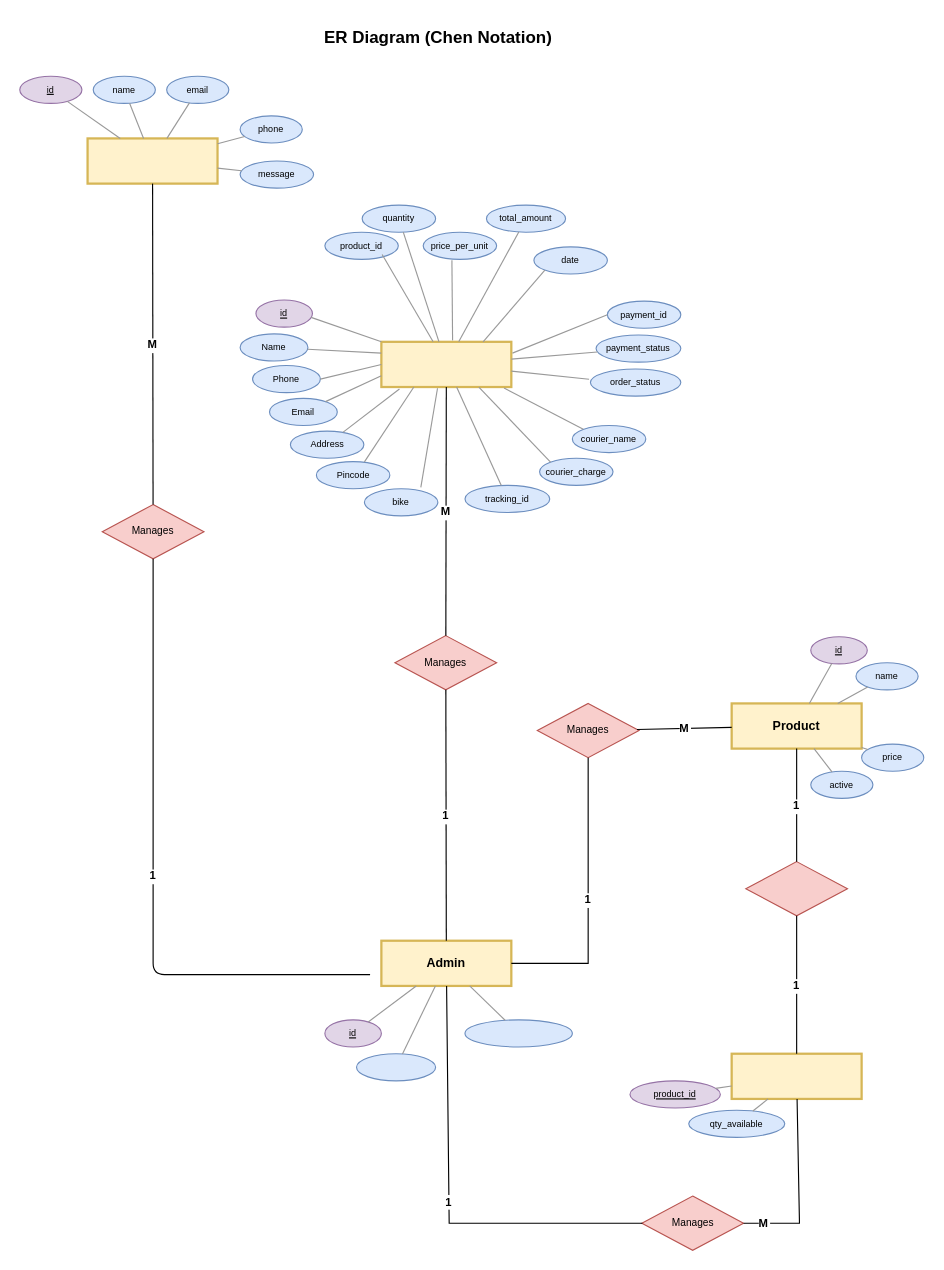
The diagram is 944 pixels wide and 1270 high, and some of its shapes have lost their labels. Here are the shapes that lost their labels. From the top down, the box of each, then its label:
(86, 137, 218, 184): Enquiry
(380, 340, 512, 388): Order
(745, 860, 847, 916): Has
(464, 1019, 572, 1047): password_hash
(355, 1053, 436, 1081): username
(730, 1052, 862, 1099): Stock
